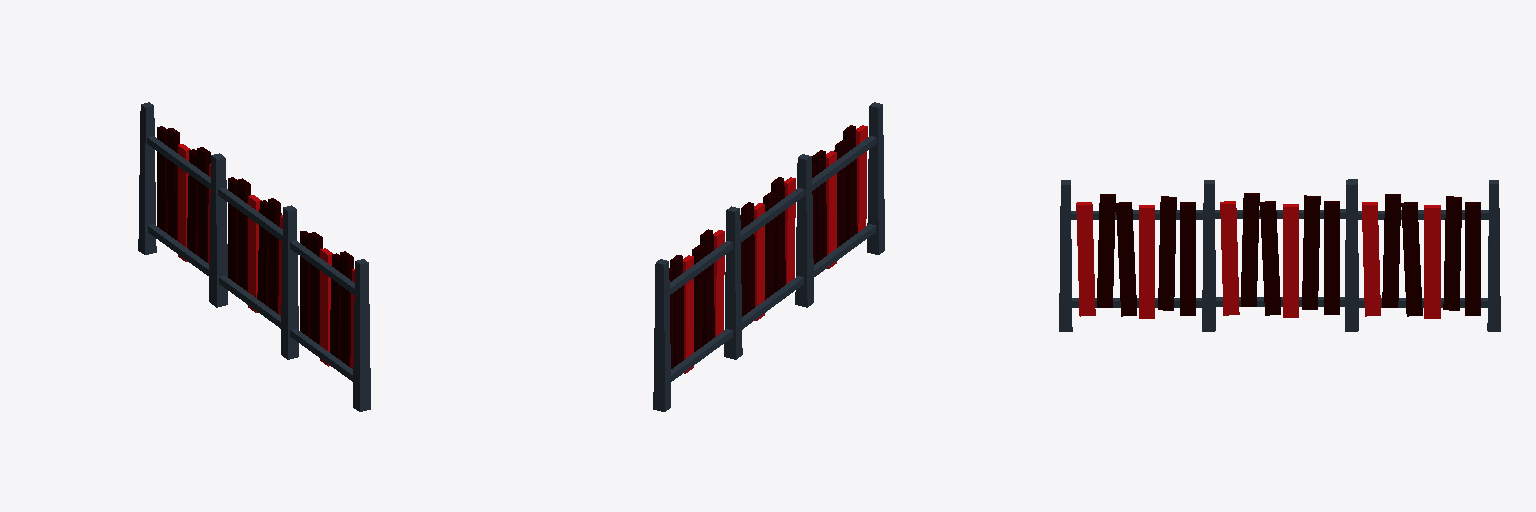
Rendered from Bakod-Lv1_remake.obj.
The picture shows the model from 3 angles: view 1: azimuth 30°, elevation 25°; view 2: azimuth 150°, elevation 25°; view 3: azimuth 270°, elevation 25°; orthographic projection.
Visible parts, largest first — view 1: Bakowd, BAKORD, bakod; view 2: bakod, Bakowd, BAKORD; view 3: BAKORD, bakod, Bakowd.
Part boxes in pixels (left/top/right/bottom): Bakowd: left=281, top=209, right=370, bottom=411; BAKORD: left=138, top=102, right=227, bottom=307; bakod: left=209, top=153, right=296, bottom=328; bakod: left=724, top=154, right=810, bottom=359; Bakowd: left=798, top=102, right=884, bottom=307; BAKORD: left=653, top=220, right=742, bottom=411; BAKORD: left=1345, top=180, right=1500, bottom=331; bakod: left=1203, top=179, right=1358, bottom=330; Bakowd: left=1059, top=180, right=1214, bottom=331.
Bounding box in the file's own units: 0.4424 × 4.18 × 11.36.